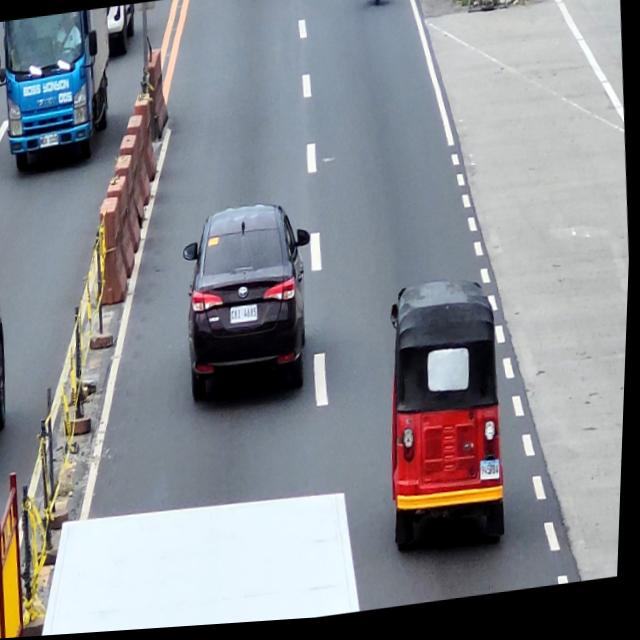Car: (177, 198, 323, 409)
E-bike: (379, 277, 518, 570)
License-Plate: (231, 307, 260, 327), (482, 465, 505, 488), (40, 134, 60, 148)
Truck: (33, 484, 369, 637), (0, 8, 120, 171)
